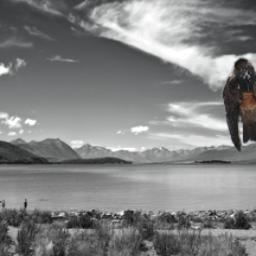Swallow: (223, 57, 256, 152)
